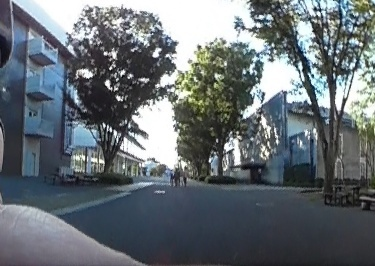person: (173, 166, 181, 184), (181, 165, 188, 182)
